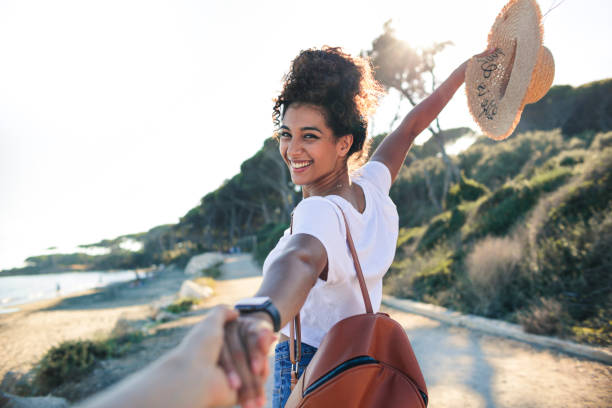without mask: (273, 102, 349, 185)
